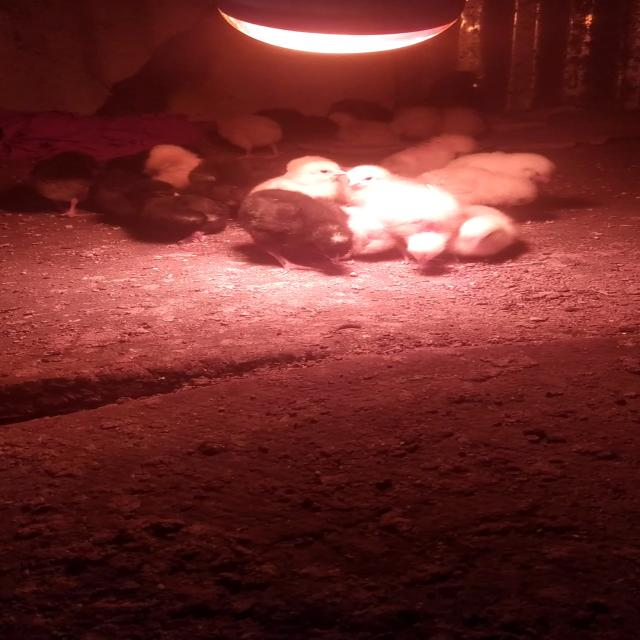chick: (235, 187, 354, 275), (344, 206, 452, 271), (346, 162, 458, 222), (445, 151, 559, 203), (24, 151, 104, 217), (245, 154, 347, 203), (130, 196, 228, 246), (374, 133, 479, 175), (208, 109, 288, 160), (138, 142, 208, 187), (325, 111, 399, 145)
